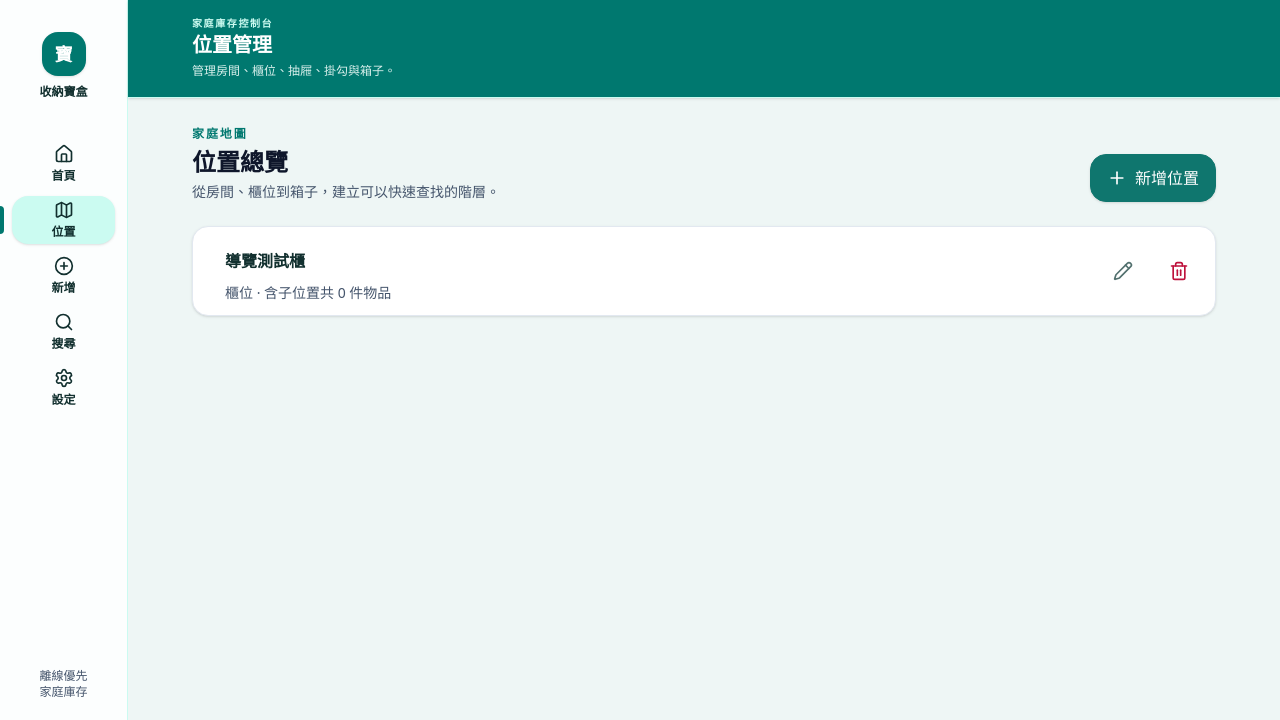
Test: app back navigation › goes back to the previous page after in-app navigation
The image size is (1280, 720).
Click the link "導覽測試櫃" at [265, 261], box left=225, top=250, right=305, bottom=272
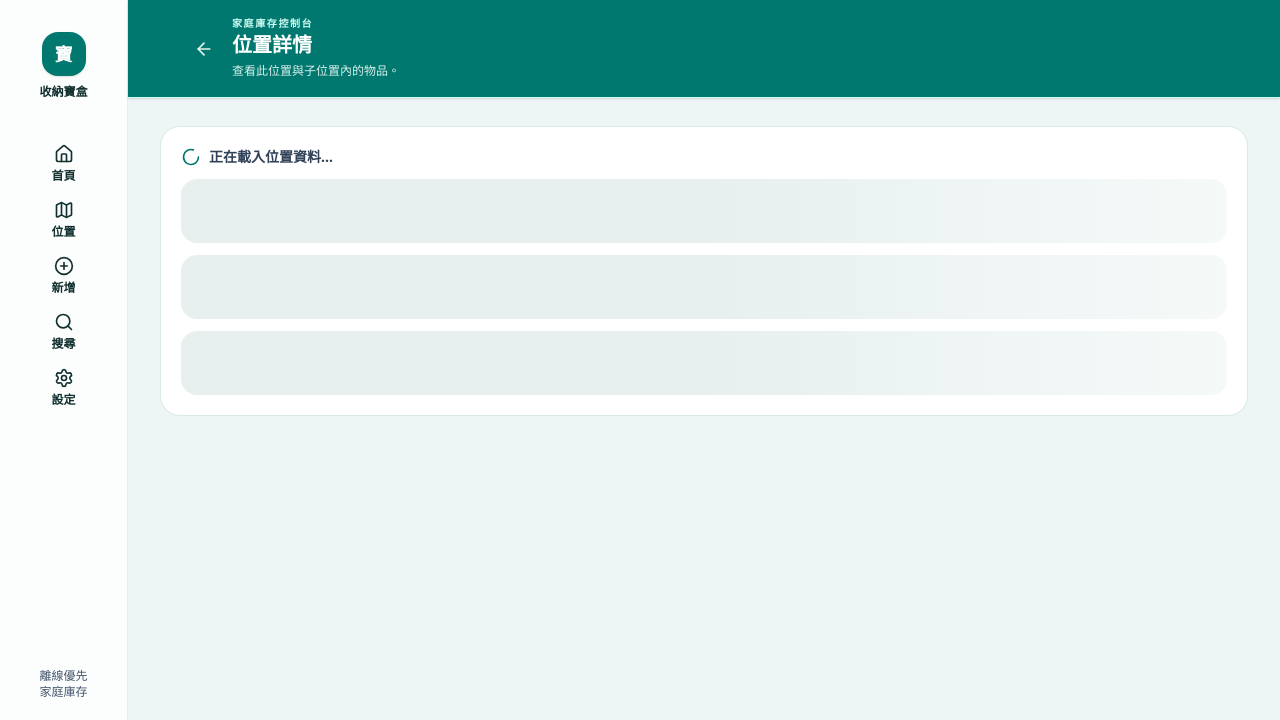
Check: the heading "位置詳情" is shown, box left=232, top=31, right=312, bottom=58
Click the button named "返回" at [204, 48], box left=180, top=24, right=228, bottom=72
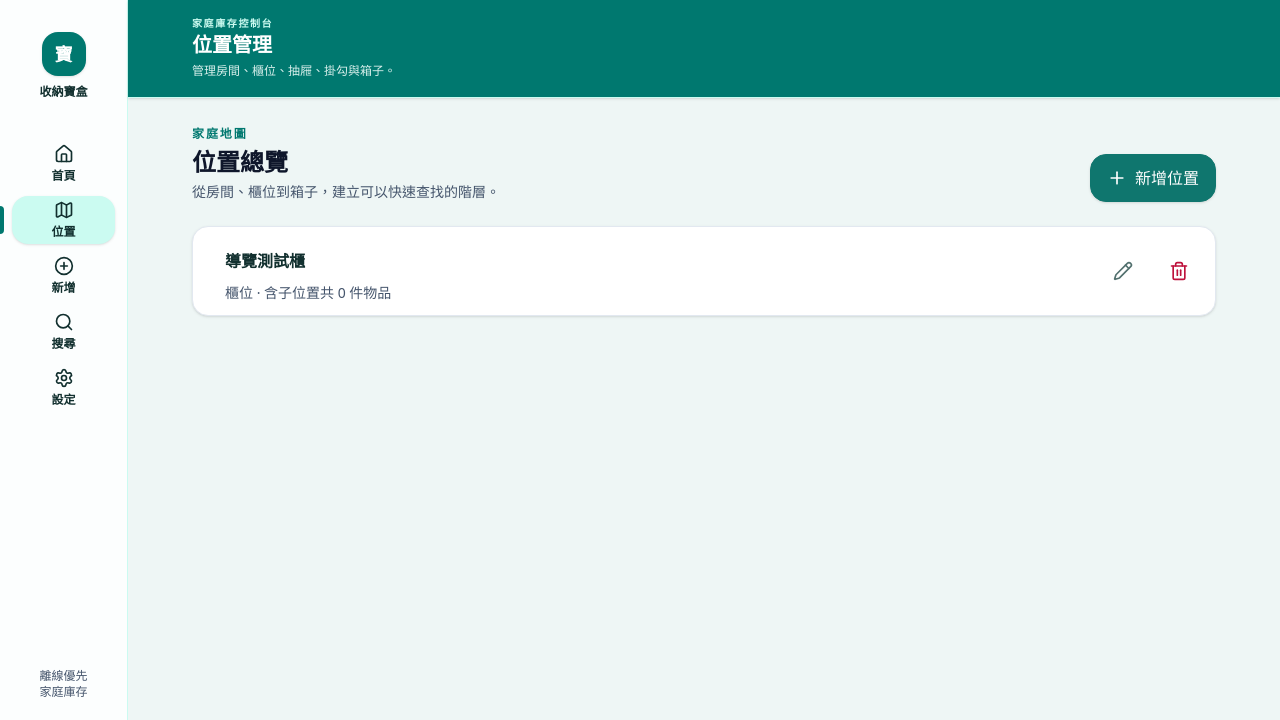
Check: the heading "位置管理" is shown, box left=192, top=31, right=272, bottom=58
